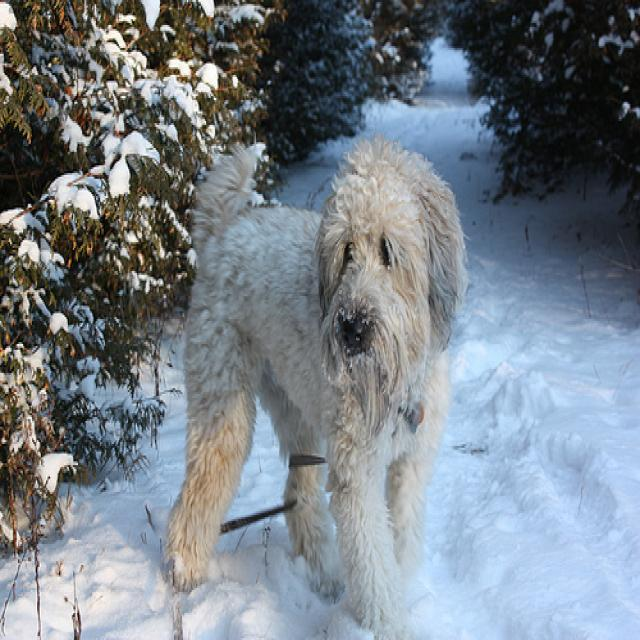dog-wheaten_terrier: (156, 127, 474, 636)
